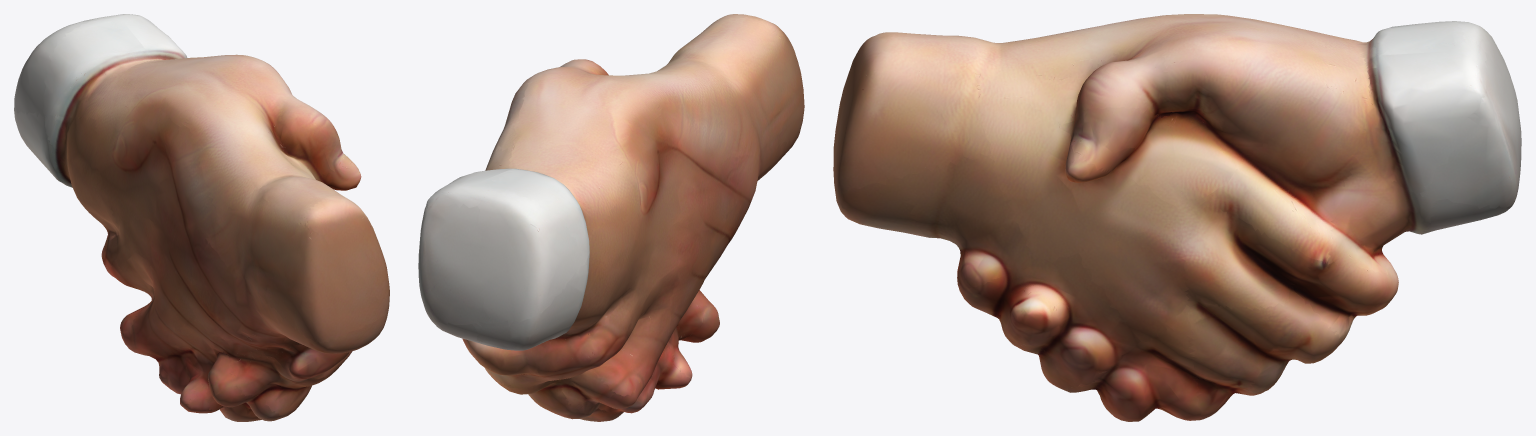
Rendered from handshake.glb.
3 views of the same model, side by side, from view 1: azimuth 30°, elevation 25°; view 2: azimuth 150°, elevation 25°; view 3: azimuth 270°, elevation 25° (orthographic). The views are drawn at different scales.
Parts seen in each view (by area): view 1: Object_4; view 2: Object_4; view 3: Object_4.
Part boxes in pixels (left/top/right/bottom): Object_4: left=14, top=14, right=389, bottom=421; Object_4: left=418, top=14, right=804, bottom=421; Object_4: left=833, top=14, right=1521, bottom=421.
Size of the model in its own units: 0.3284 by 0.5806 by 0.9168.
1 material, 1 textured.
